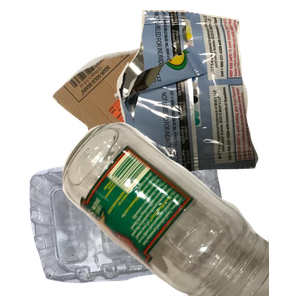cardboard: (50, 38, 233, 184)
glass: (60, 120, 300, 300)
plastic: (27, 152, 247, 300)
trash: (114, 10, 300, 180)
